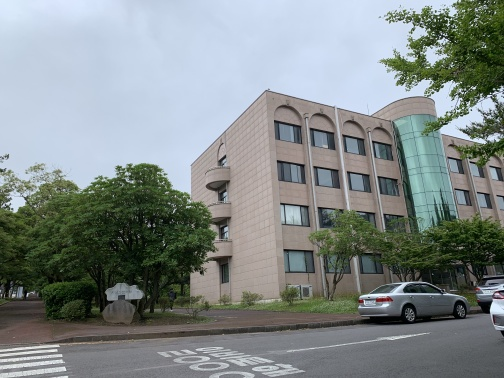Natural Science2: (185, 82, 470, 297)
